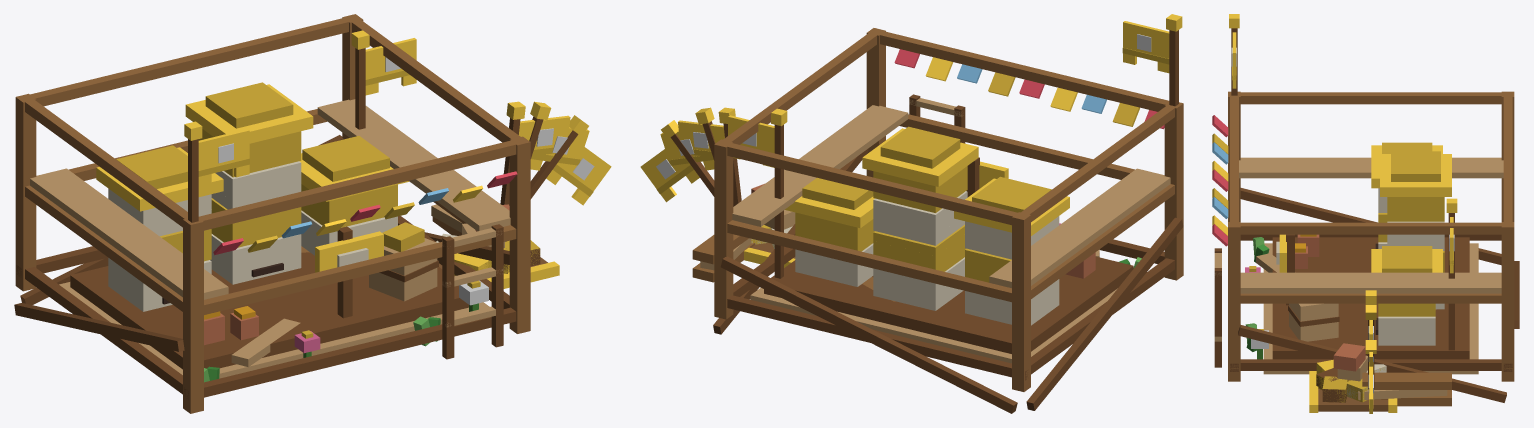
The model's file is bee-producer.glb.
3 views of the same model, side by side, from view 1: azimuth 30°, elevation 25°; view 2: azimuth 150°, elevation 25°; view 3: azimuth 270°, elevation 25° (orthographic). The views are drawn at different scales.
Visible parts, largest first — view 1: scaffold-mesh, built-mesh, dismantle-50-mesh, dismantle-75-mesh, scaffold-banner, dismantle-25-mesh, dismantle-25-banner, banner, scaffold-flag-pole, dismantle-75-banner, flag-pole, dismantle-50-banner (+3 smaller); view 2: scaffold-mesh, built-mesh, dismantle-50-mesh, dismantle-75-mesh, scaffold-banner, dismantle-25-banner, flag-pole, dismantle-75-banner, scaffold-flag-pole, dismantle-50-banner, banner, dismantle-25-mesh (+2 smaller); view 3: scaffold-mesh, built-mesh, dismantle-50-mesh, dismantle-75-mesh, dismantle-25-mesh, flag-pole, scaffold-flag-pole, scaffold-banner.
Part boxes in pixels (<box>): scaffold-mesh: <box>14,14,530,413</box>; built-mesh: <box>96,82,488,380</box>; dismantle-50-mesh: <box>70,247,553,381</box>; dismantle-75-mesh: <box>59,136,559,382</box>; scaffold-banner: <box>198,129,249,186</box>; dismantle-25-mesh: <box>162,204,559,371</box>; dismantle-25-banner: <box>546,139,611,205</box>; banner: <box>365,38,416,95</box>; scaffold-flag-pole: <box>184,121,202,222</box>; dismantle-75-banner: <box>519,115,570,157</box>; flag-pole: <box>351,30,369,129</box>; dismantle-50-banner: <box>530,124,589,175</box>; scaffold-mesh: <box>692,28,1183,413</box>; built-mesh: <box>750,126,1126,363</box>; dismantle-50-mesh: <box>745,228,1133,343</box>; dismantle-75-mesh: <box>744,165,1125,358</box>; scaffold-banner: <box>1122,21,1169,73</box>; dismantle-25-banner: <box>640,142,699,202</box>; flag-pole: <box>771,108,787,278</box>; dismantle-75-banner: <box>678,120,724,158</box>; scaffold-flag-pole: <box>1166,14,1182,106</box>; dismantle-50-banner: <box>660,129,714,174</box>; banner: <box>728,115,774,167</box>; dismantle-25-mesh: <box>744,183,1141,301</box>; scaffold-mesh: <box>1212,91,1519,406</box>; built-mesh: <box>1245,142,1451,351</box>; dismantle-50-mesh: <box>1250,234,1469,412</box>; dismantle-75-mesh: <box>1245,196,1478,412</box>; dismantle-25-mesh: <box>1247,237,1436,412</box>; flag-pole: <box>1446,198,1457,350</box>; scaffold-flag-pole: <box>1229,14,1239,95</box>; scaffold-banner: <box>1231,32,1236,88</box>.
Bounding box in the file's own units: 2.7 × 1.55 × 1.71.
